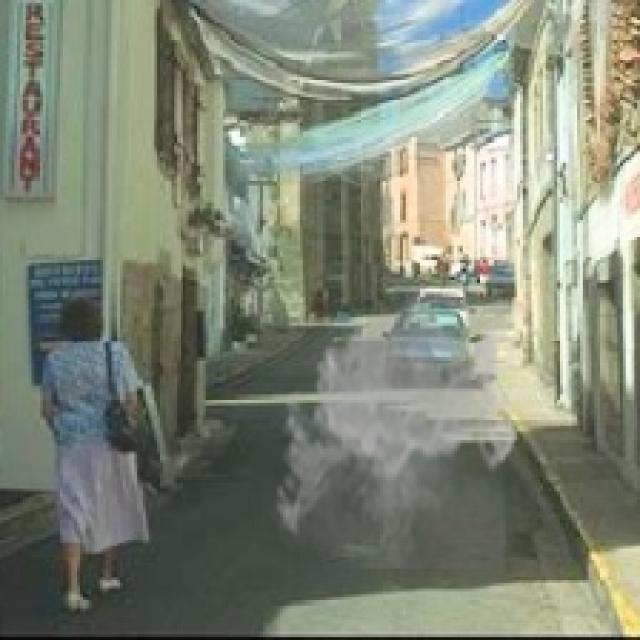Smoke: (268, 288, 523, 568)
